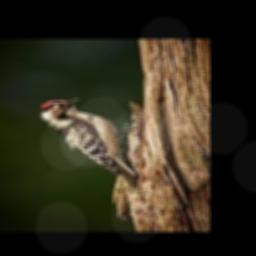Woodpecker: (38, 97, 137, 187)
